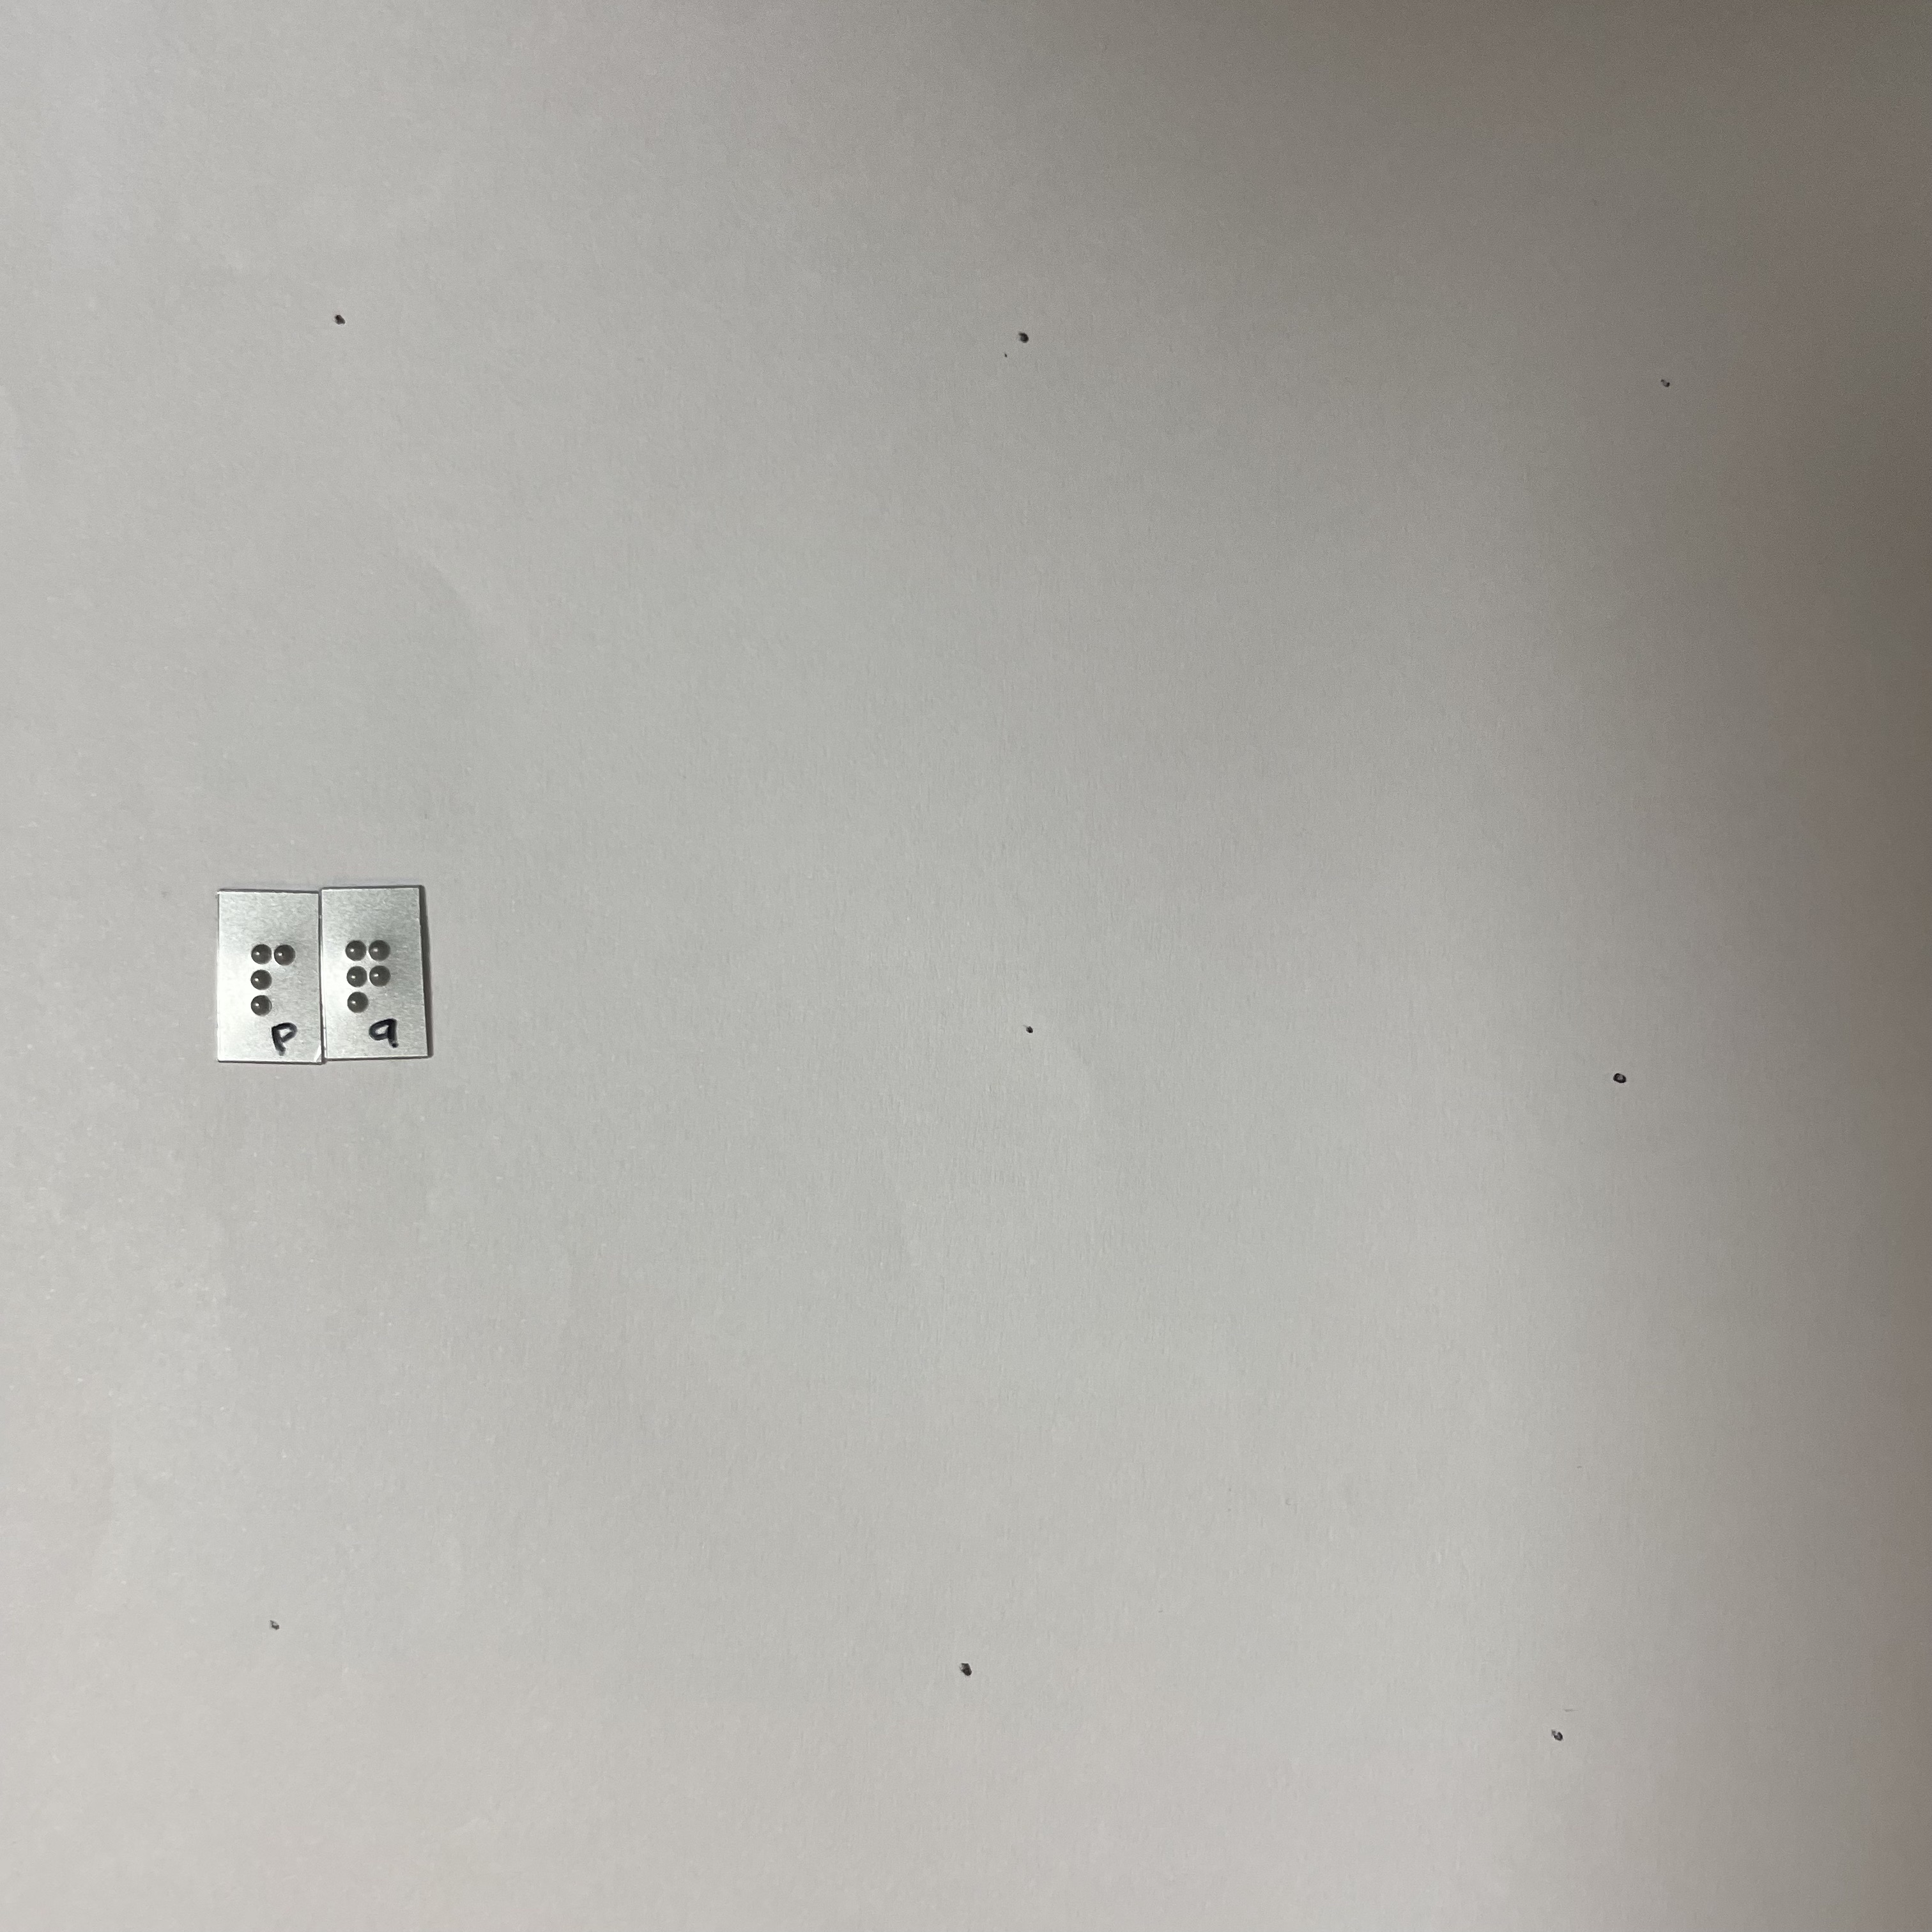p: (244, 937, 301, 1022)
q: (339, 926, 402, 1022)
